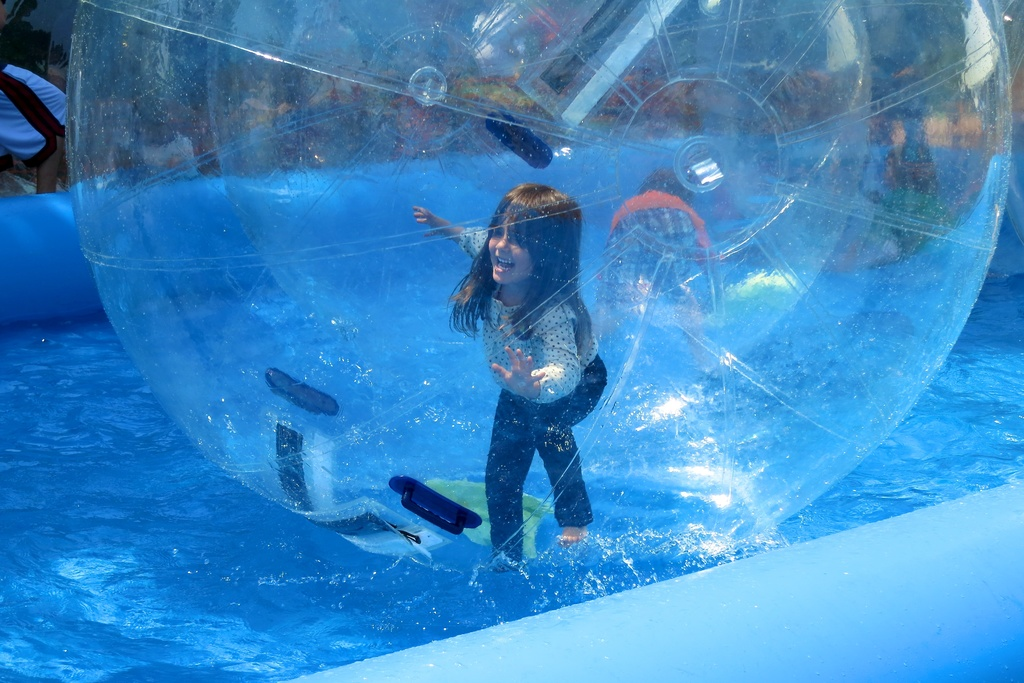Person: (0, 0, 72, 196)
